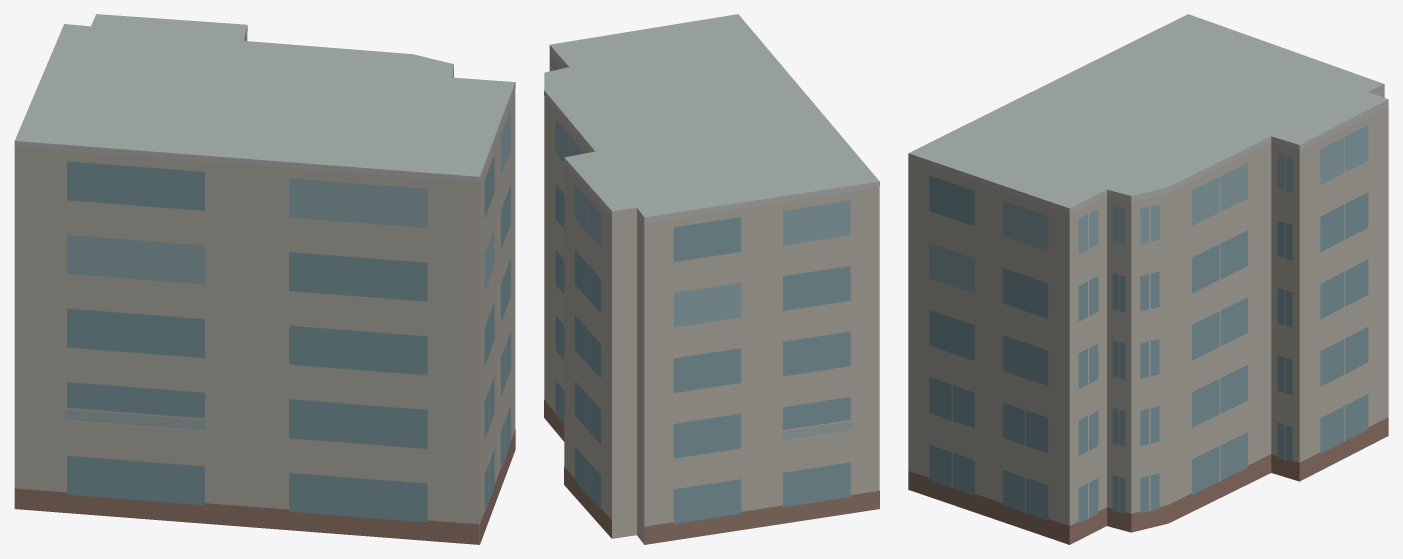
The model's file is survey-upis-32609755.glb.
The picture shows the model from 3 angles, left to right: view 1: azimuth 30°, elevation 25°; view 2: azimuth 150°, elevation 25°; view 3: azimuth 270°, elevation 25°; orthographic projection. The views are drawn at different scales.
Visible parts, largest first — view 1: survey-upis-32609755.tmp; view 2: survey-upis-32609755.tmp; view 3: survey-upis-32609755.tmp.
Boxes of the visible parts, x1,y1,x2,y2 form: survey-upis-32609755.tmp: [14, 14, 515, 544]; survey-upis-32609755.tmp: [544, 14, 879, 544]; survey-upis-32609755.tmp: [908, 14, 1388, 544].
Size of the model in its own units: 17.48 by 14.1 by 18.25.
